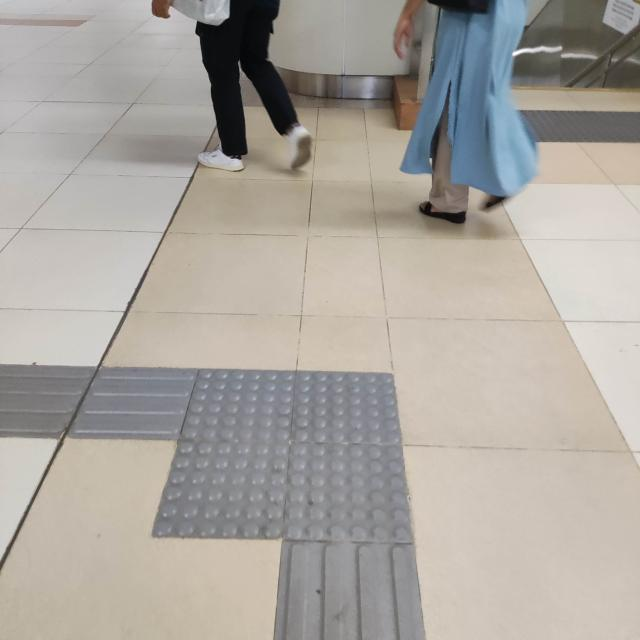kiri: (2, 297, 468, 619)
